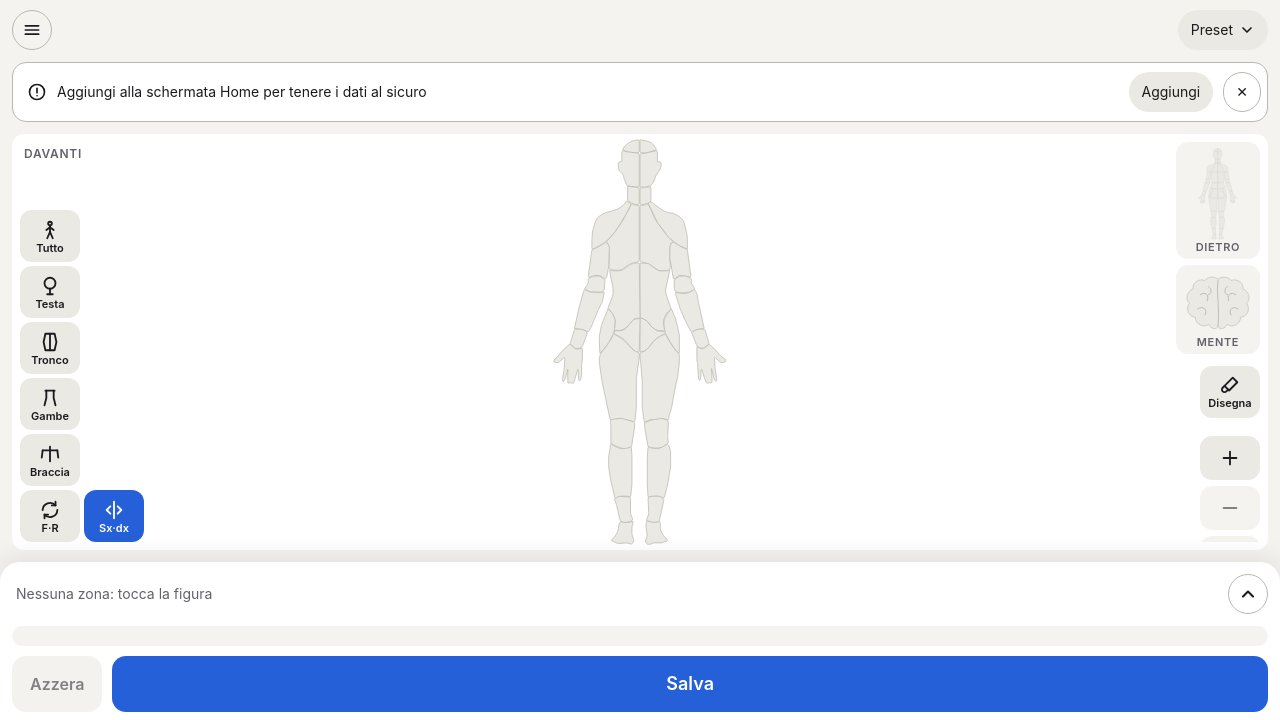
Test: Episodes with an end › Inizio "Adesso" with an end picked in the past is still refused
Click the button named "Altro" at {"x": 1248, "y": 594}, box x1=1228 y1=574 x2=1268 y2=614
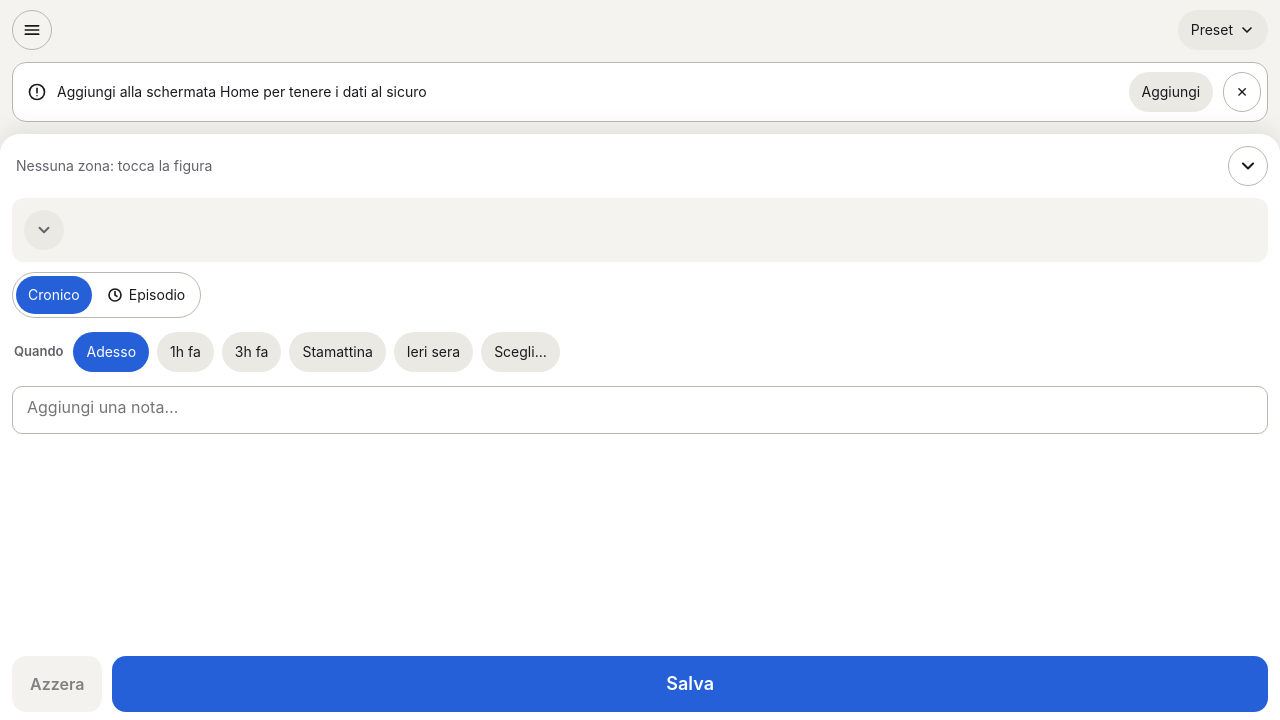
Click the button "Episodio" at {"x": 146, "y": 295}, box x1=95 y1=276 x2=197 y2=314
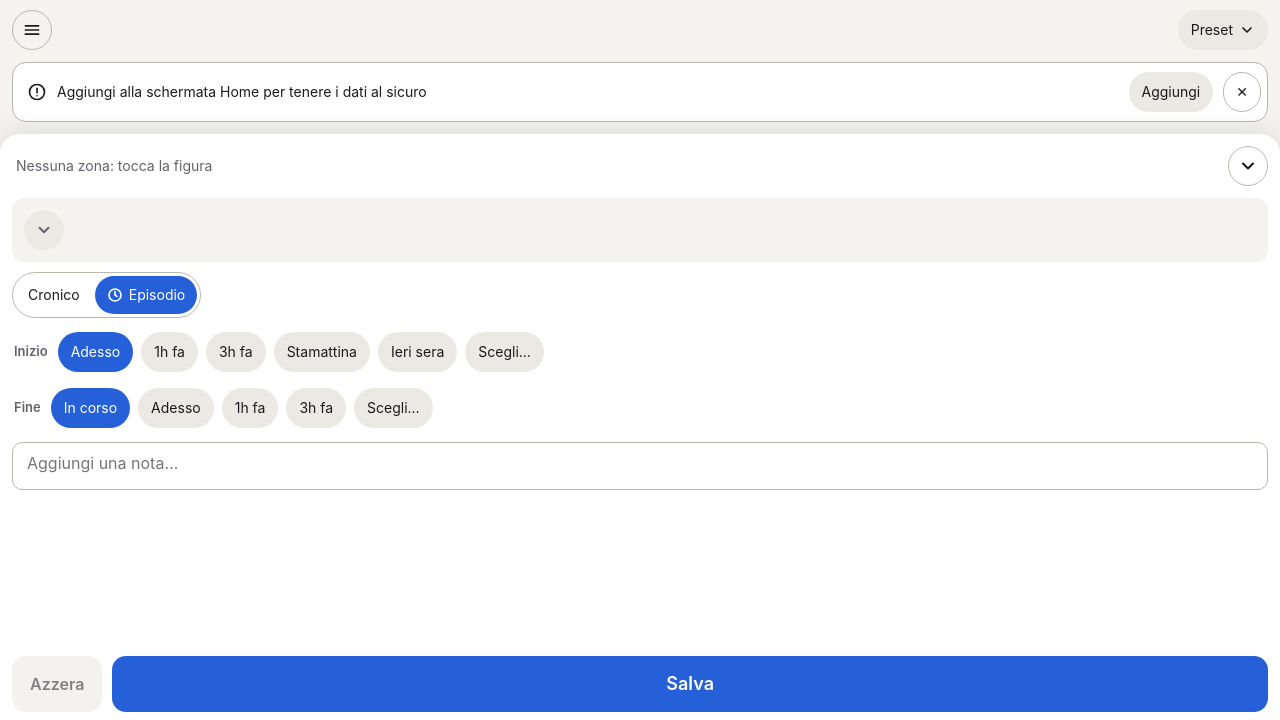
Click the button "1h fa" in the row of "Fine" at {"x": 250, "y": 408}, box x1=222 y1=388 x2=278 y2=428
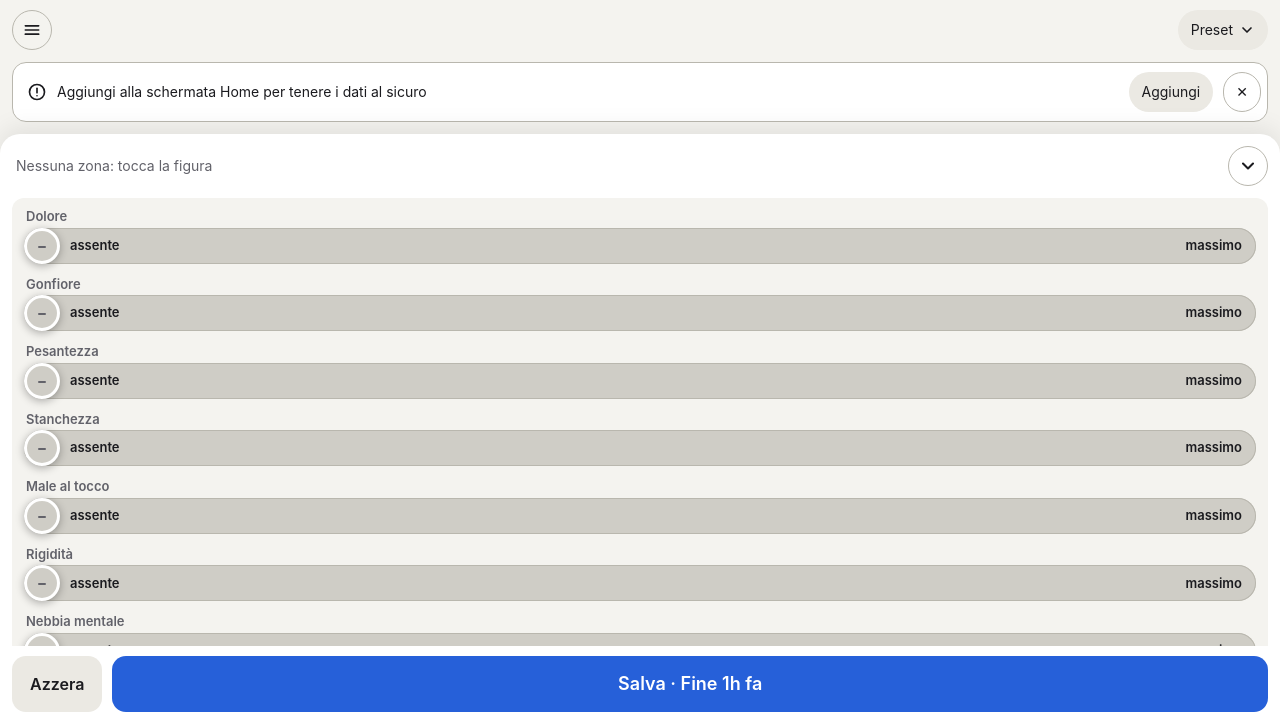
Set the slider named "Dolore" to "5" at {"x": 640, "y": 246}, box x1=24 y1=228 x2=1256 y2=264
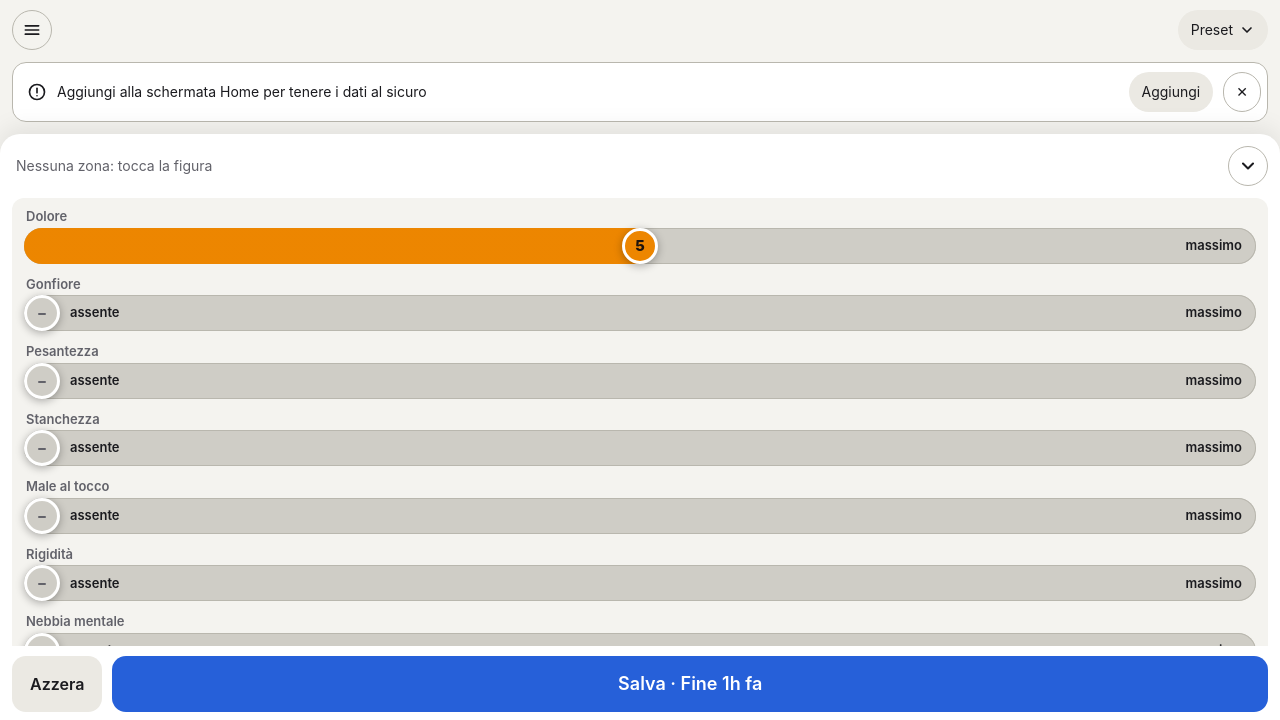
Click the button "Salva · Fine 1h fa" at {"x": 690, "y": 684}, box x1=112 y1=656 x2=1268 y2=712
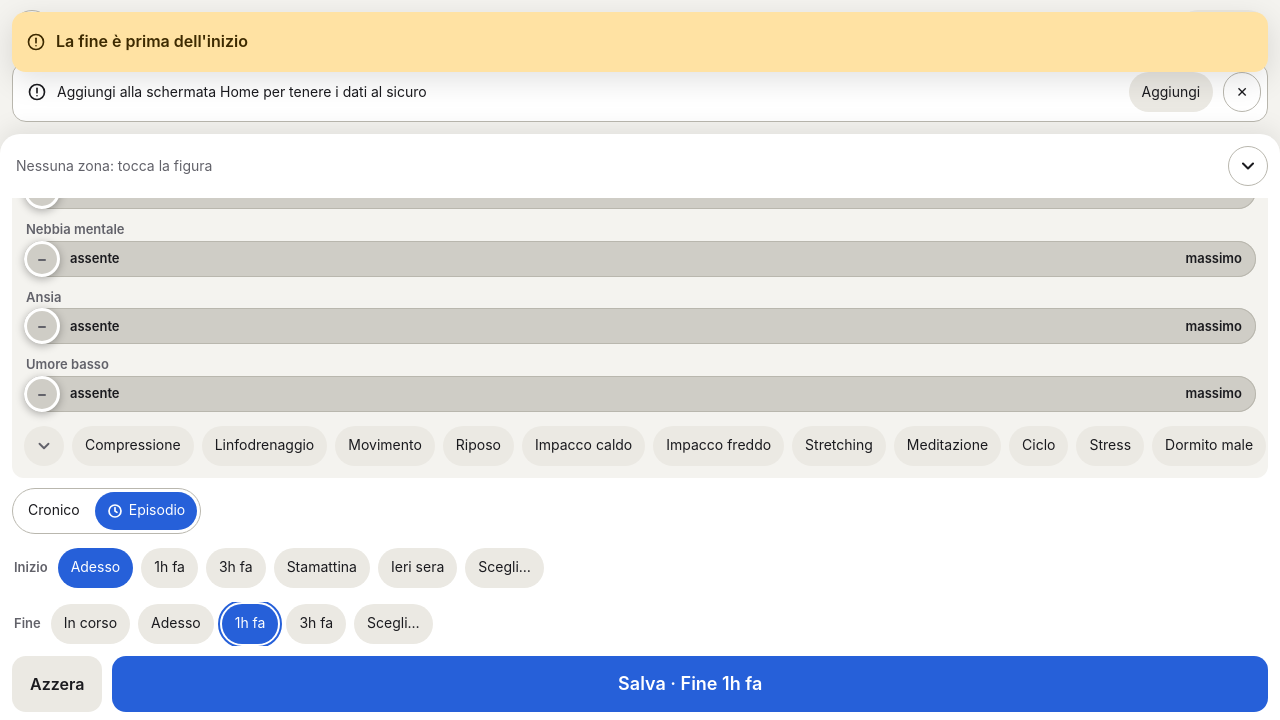
Now the text "La fine è prima dell'inizio" is shown, box x1=56 y1=31 x2=248 y2=51
